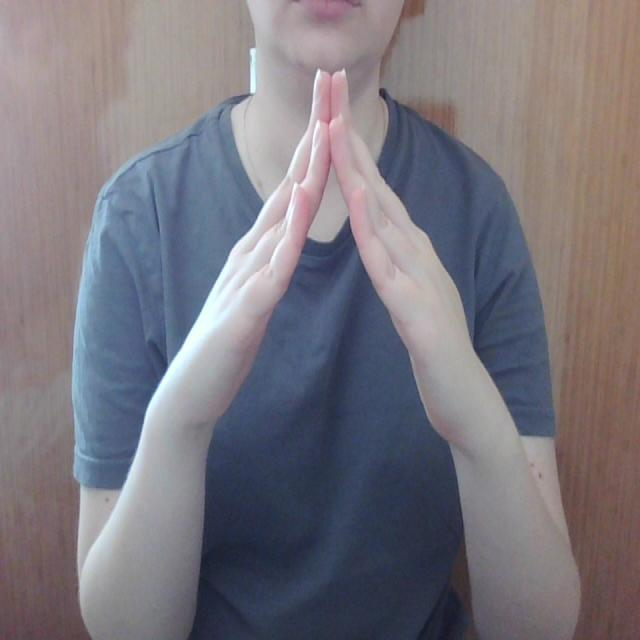Ev: (162, 64, 504, 429)
